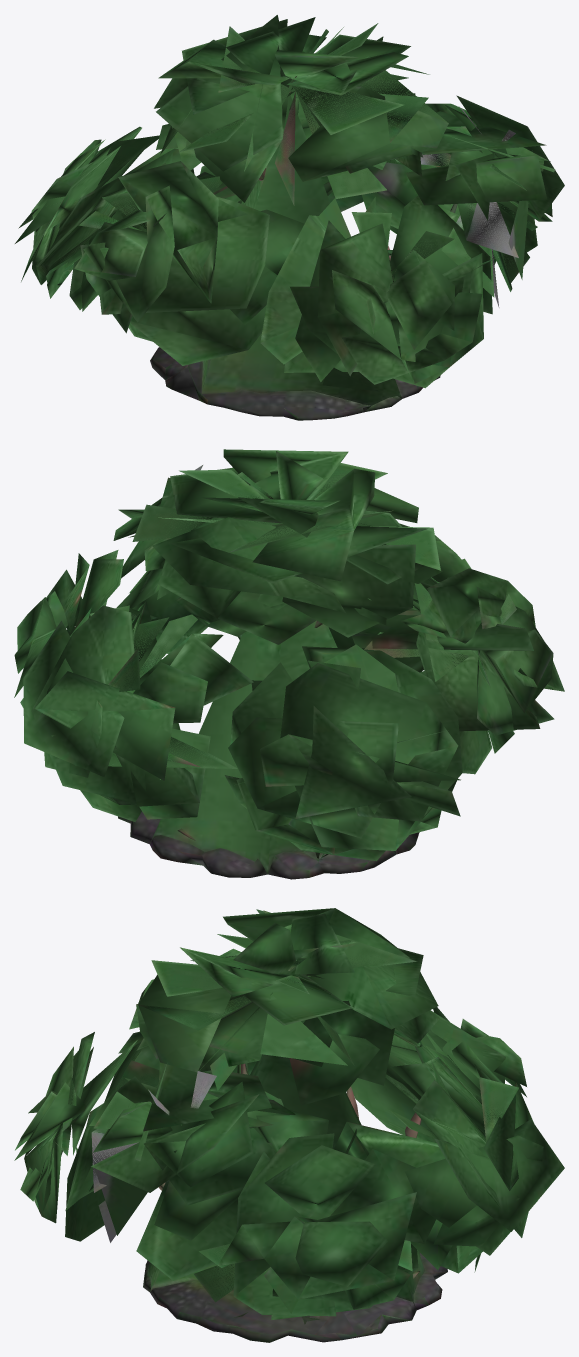
File: bush.glb
3 renders of one model, top to bottom at view 1: azimuth 30°, elevation 25°; view 2: azimuth 150°, elevation 25°; view 3: azimuth 270°, elevation 25°, orthographic. The views are drawn at different scales.
Visible parts, largest first — view 1: bush; view 2: bush; view 3: bush.
Part boxes in pixels (<box>): bush: <box>15,15,564,420</box>; bush: <box>14,449,564,879</box>; bush: <box>14,908,564,1342</box>.
Size of the model in its own units: 0.8047 by 0.5253 by 0.7701.
1 material, 1 textured.
